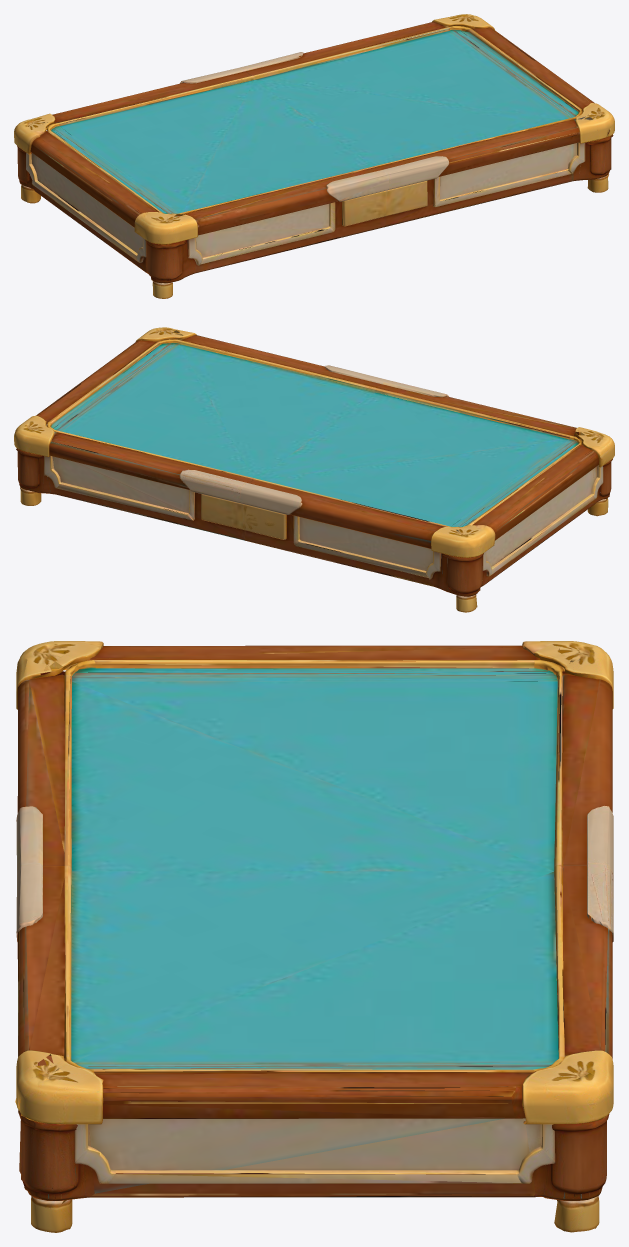
Rendered from Meshy_AI_Stylized_Table_1109212732_texture.glb.
3 views of the same model, one above another, from view 1: azimuth 30°, elevation 25°; view 2: azimuth 150°, elevation 25°; view 3: azimuth 270°, elevation 25° (orthographic). The views are drawn at different scales.
Parts seen in each view (by area): view 1: geometry_0; view 2: geometry_0; view 3: geometry_0.
Part boxes in pixels (left/top/right/bottom): geometry_0: left=14, top=14, right=614, bottom=298; geometry_0: left=14, top=327, right=614, bottom=612; geometry_0: left=15, top=641, right=613, bottom=1232.
Size of the model in its own units: 0.9487 by 0.1465 by 0.5269.
1 material, 1 textured.
